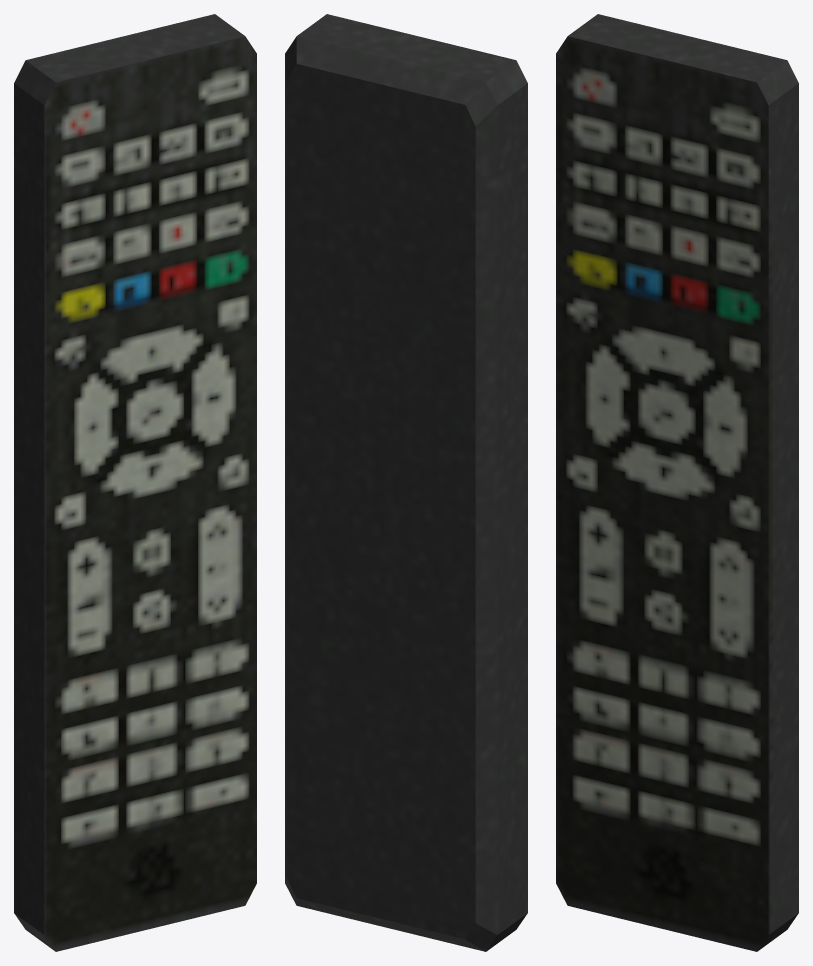
The model's file is remote.fbx.
3 renders of one model, left to right at view 1: azimuth 30°, elevation 25°; view 2: azimuth 150°, elevation 25°; view 3: azimuth 330°, elevation 25°, orthographic.
Visible parts, largest first — view 1: Cube; view 2: Cube; view 3: Cube.
Part boxes in pixels (x1,y1,x2,y2): Cube: (14, 14, 256, 951); Cube: (285, 14, 527, 951); Cube: (556, 14, 798, 951).
Size of the model in its own units: 120 by 468 by 39.62.
Materials: 1 (1 with a texture image).
